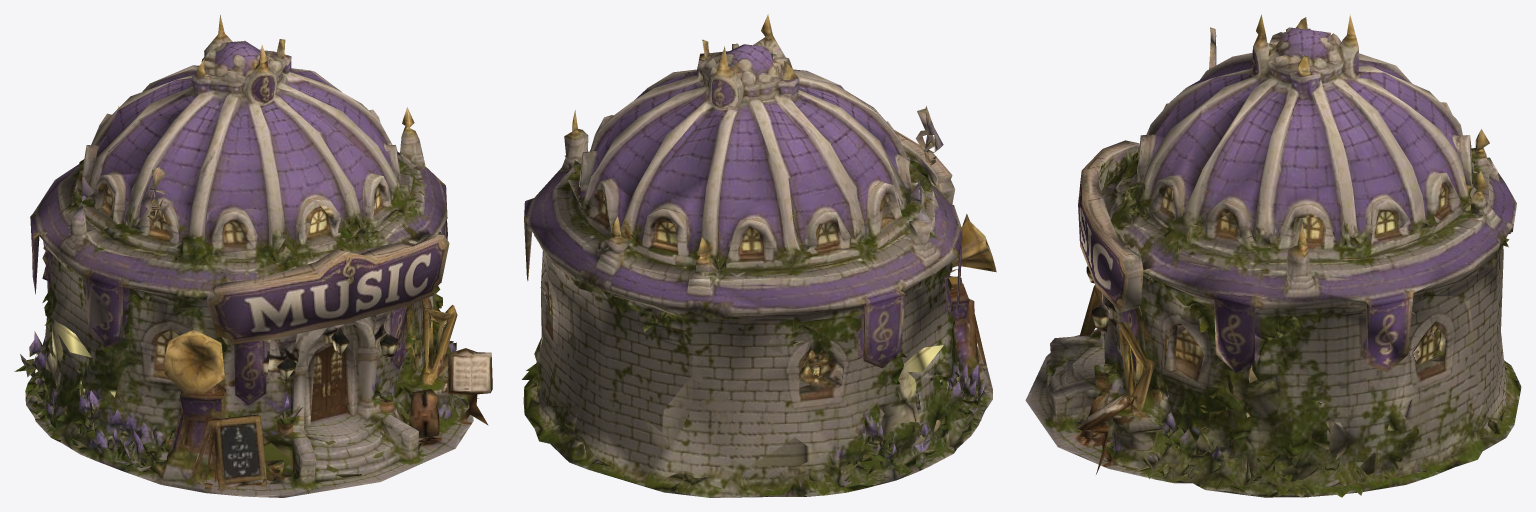
The model's file is life-music.glb.
3 views of the same model, side by side, from view 1: azimuth 30°, elevation 25°; view 2: azimuth 150°, elevation 25°; view 3: azimuth 270°, elevation 25° (orthographic). The views are drawn at different scales.
Parts seen in each view (by area): view 1: Mesh1.0; view 2: Mesh1.0; view 3: Mesh1.0.
Part boxes in pixels (x1,y1,x2,y2): Mesh1.0: (14,15,492,497); Mesh1.0: (522,14,996,497); Mesh1.0: (1025,14,1521,497).
Size of the model in its own units: 1.83 by 1.63 by 1.9.
Materials: 1 (1 with a texture image).
